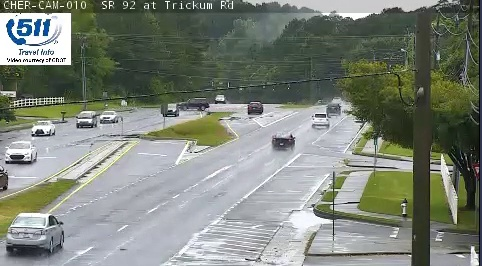car: (6, 213, 64, 249), (272, 133, 294, 149), (311, 113, 328, 127)
